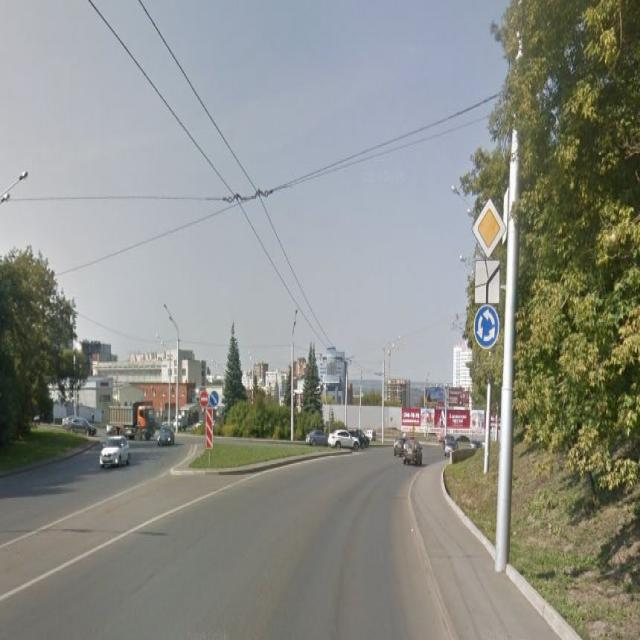roundabout: (475, 306, 500, 352)
